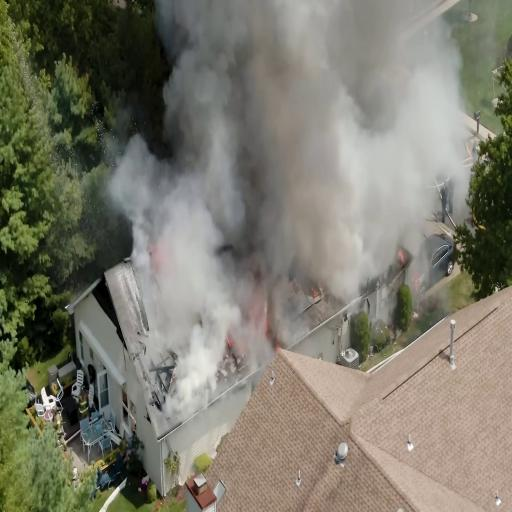smoke: (184, 2, 350, 270), (312, 1, 423, 248), (127, 150, 217, 313)
